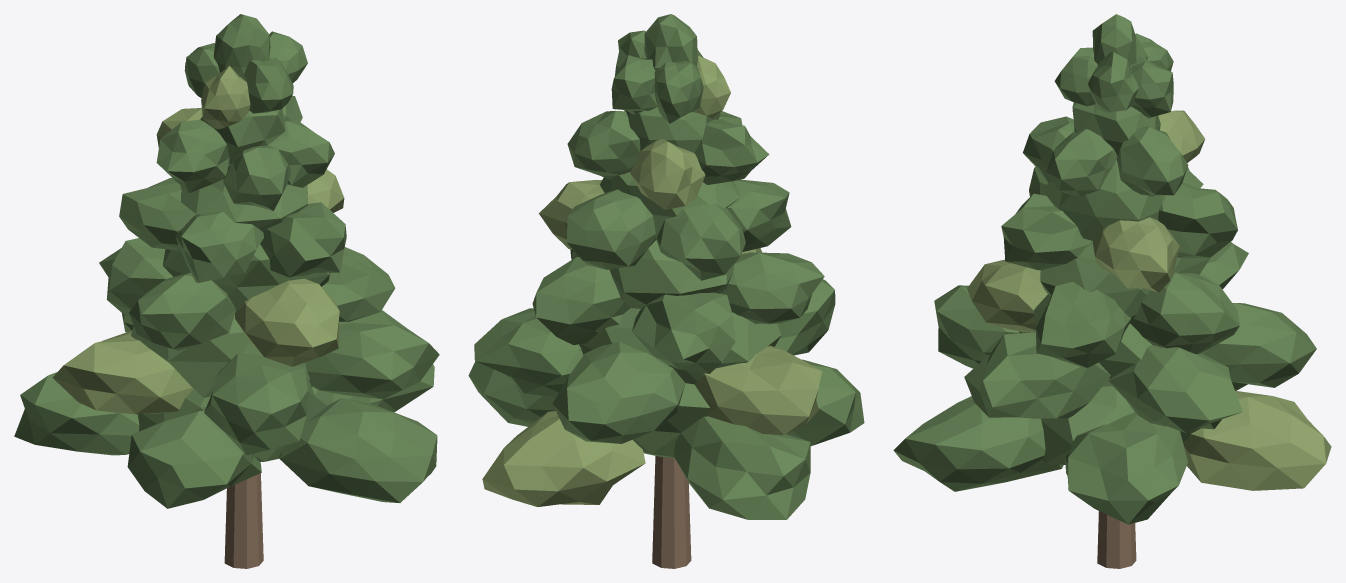
The model's file is pine_tall_a.glb.
3 views of the same model, side by side, from view 1: azimuth 30°, elevation 25°; view 2: azimuth 150°, elevation 25°; view 3: azimuth 270°, elevation 25° (orthographic).
Parts seen in each view (by area): view 1: pine_tall_a; view 2: pine_tall_a; view 3: pine_tall_a.
Part boxes in pixels (box(x1,y1,x2,y2)): pine_tall_a: box(14, 14, 439, 568); pine_tall_a: box(468, 14, 864, 568); pine_tall_a: box(893, 14, 1331, 568).
Bounding box in the file's own units: 5.17 × 7.5 × 5.45.
